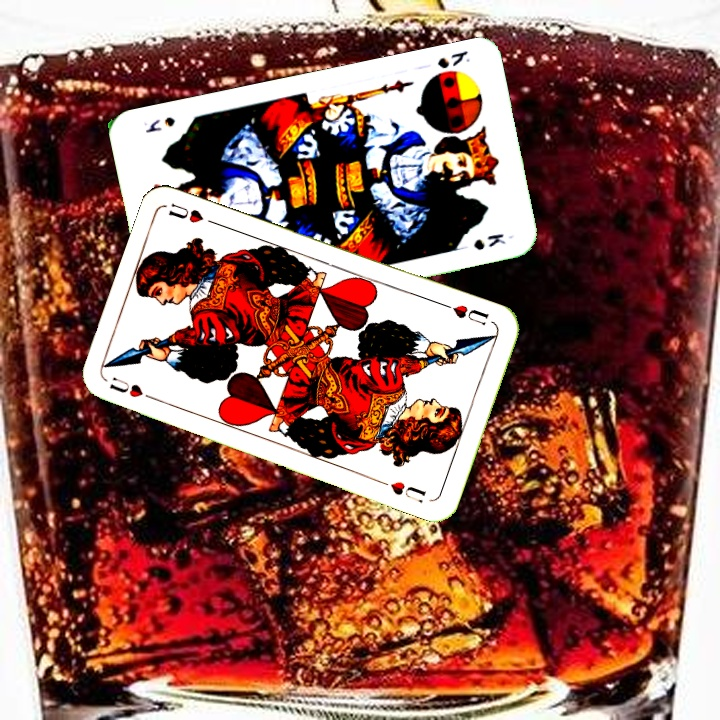HU: (105, 373, 160, 404), (439, 299, 492, 328)
SK: (433, 46, 472, 72)
